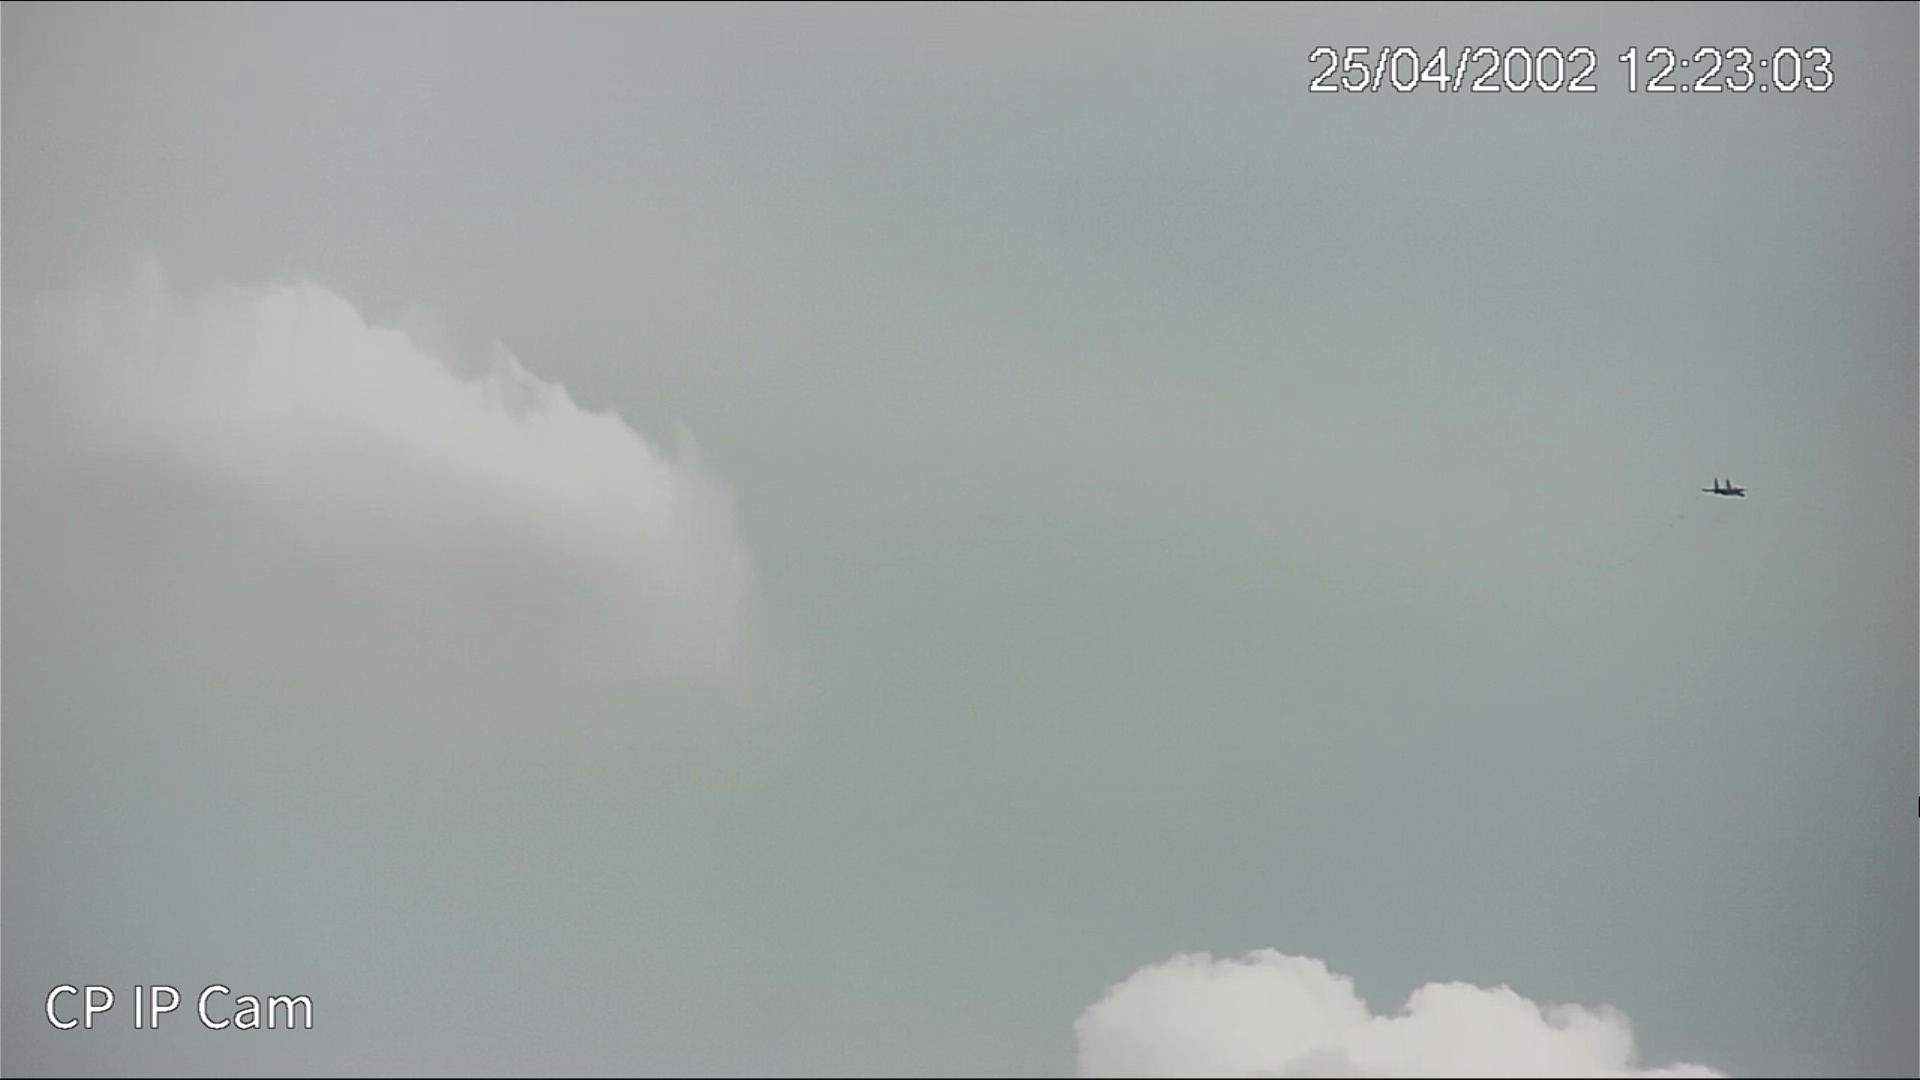SU_30: (1698, 477, 1749, 502)
